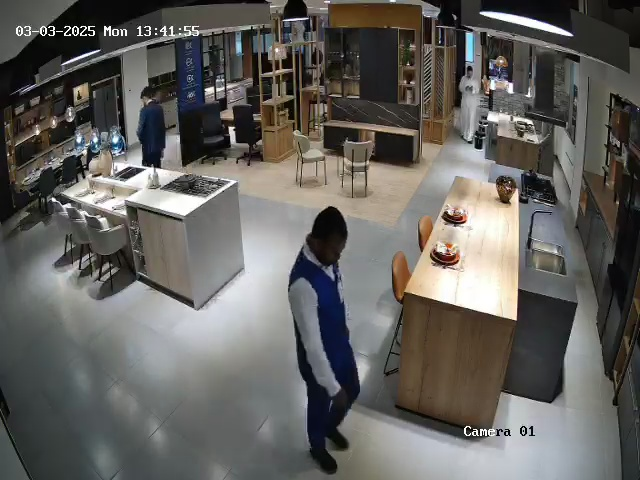employee: (288, 206, 361, 474), (136, 87, 166, 169)
male: (458, 65, 481, 144)
